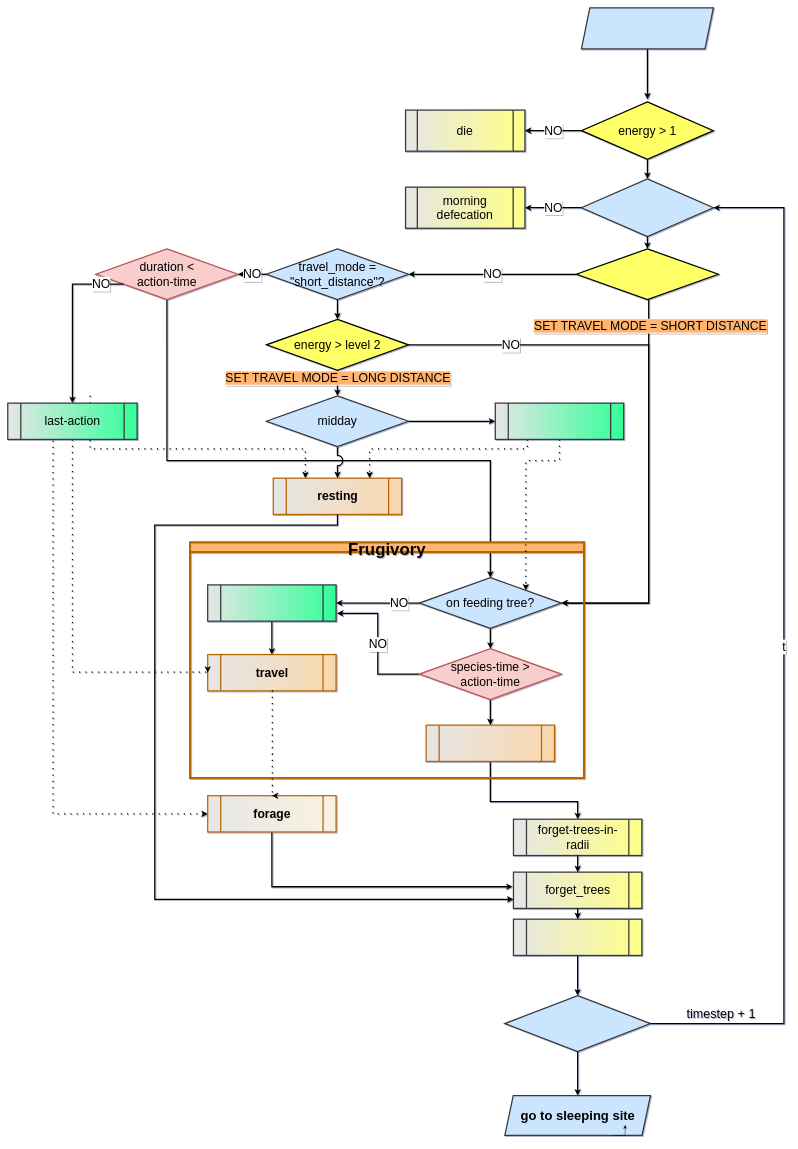
The diagram is 798 pixels wide and 1149 high, and some of its shapes have lost their labels. Here are the shapes that lost their labels. From the top down, the centre of each, then its label:
At [647,28]: "out of sleeping site timestep = 0".
At [647,207]: "timestep > 1".
At [647,274]: "energy < level 1".
At [559,421]: "random-action".
At [272,603]: "to-feeding-tree".
At [490,743]: "feeding".
At [577,937]: "defecation".
At [577,1023]: "timestep > 108".
